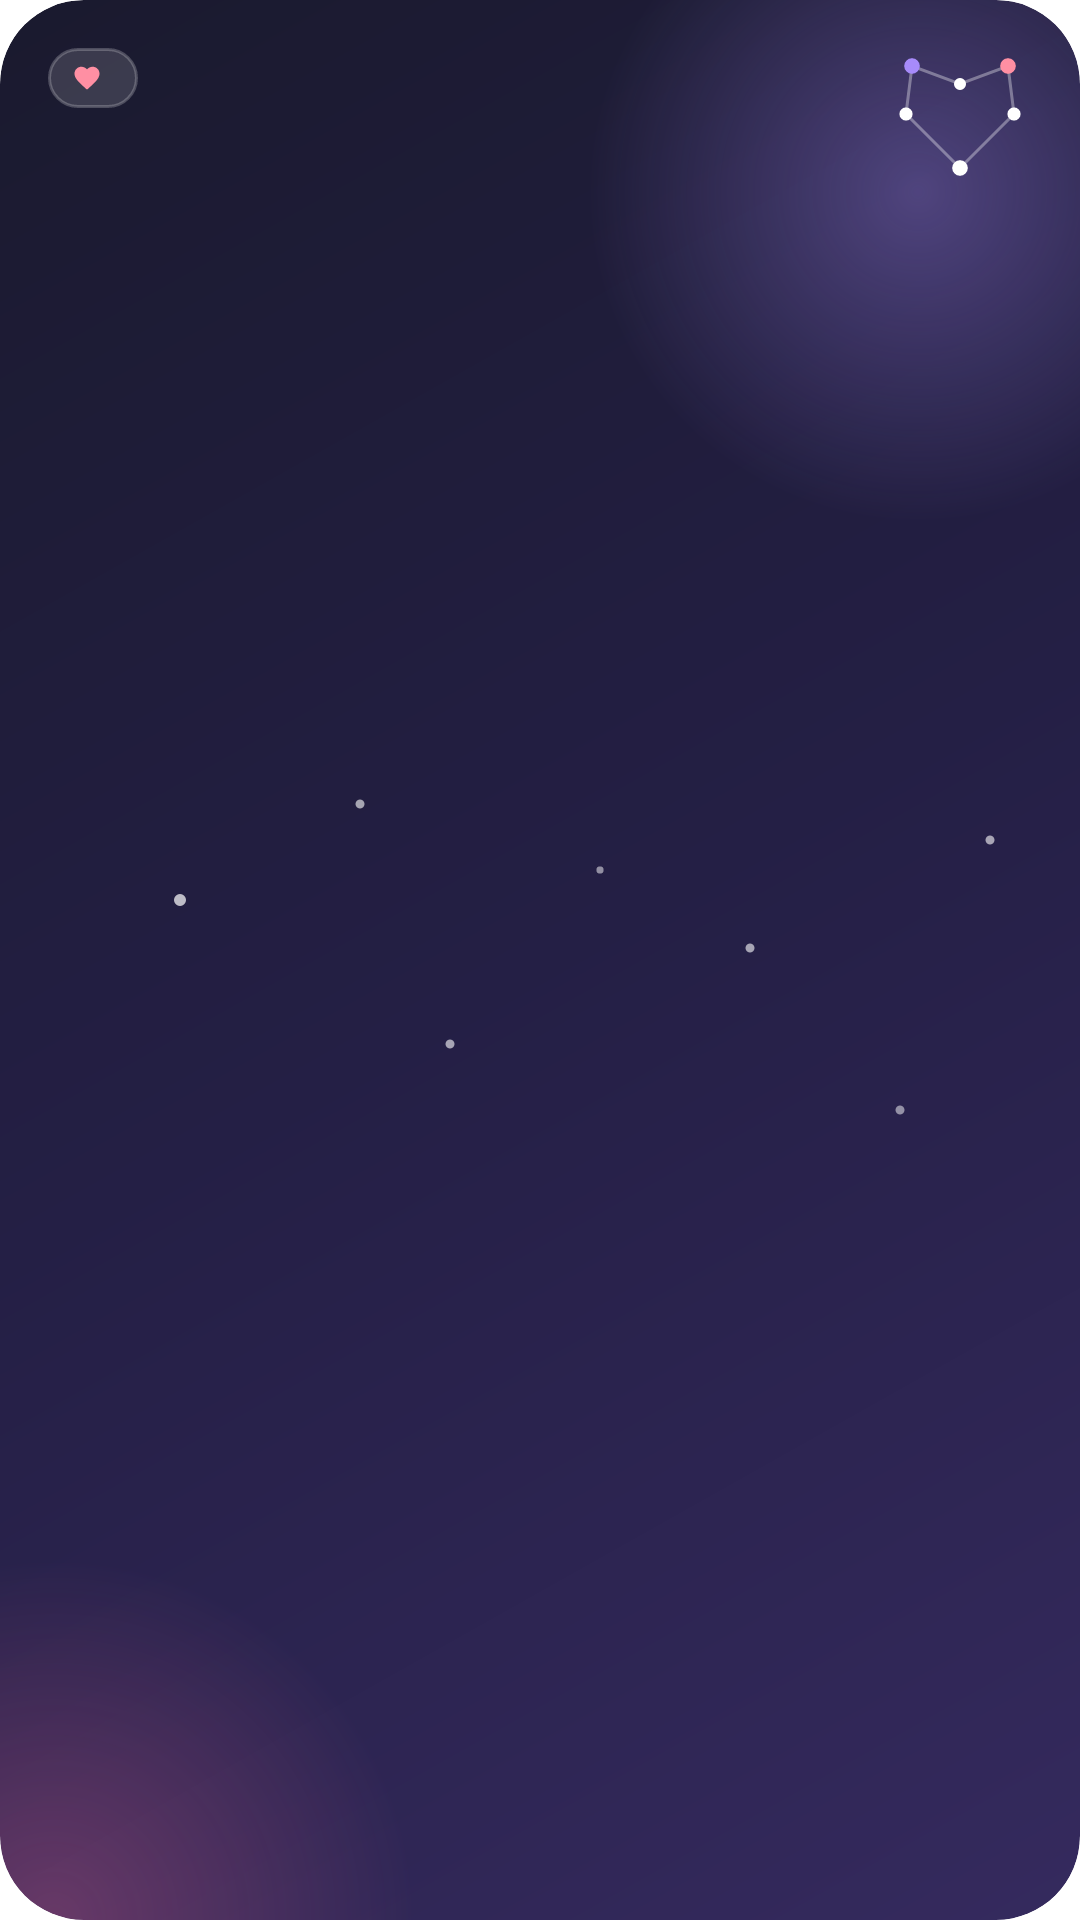

Where to tap for icons on this 1080px x 1920px app screen, as point (x, y):
widget constellation: point (960, 117)
widget heart: point (87, 78)
